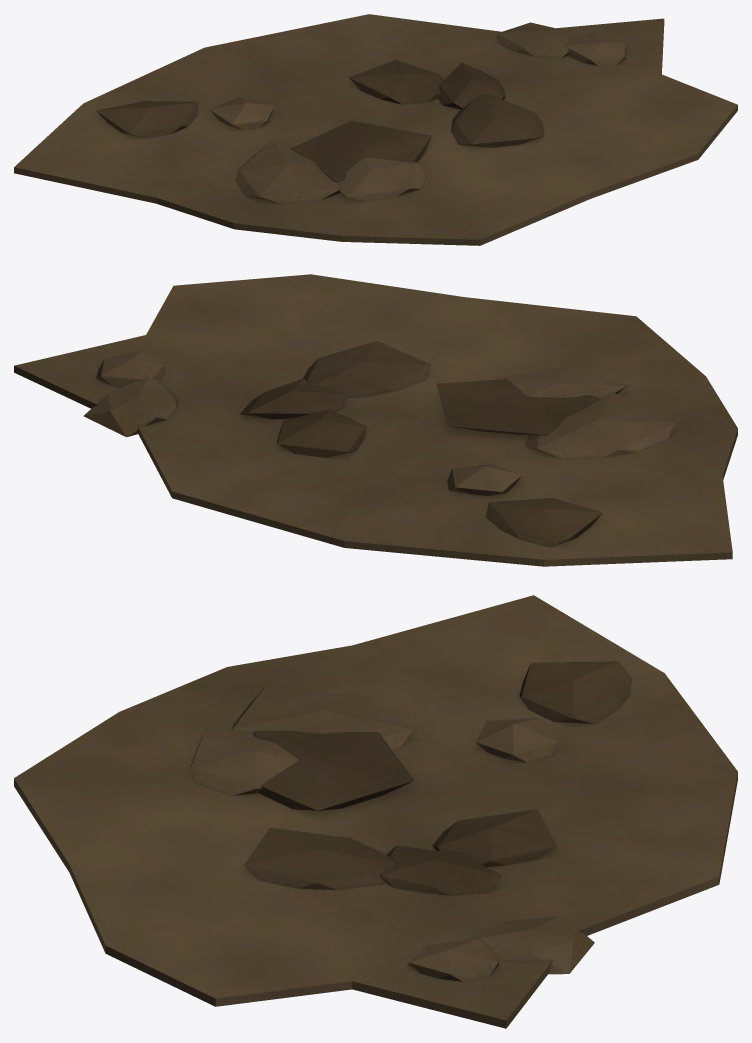
The model's file is mud_patch_idle.glb.
3 views of the same model, one above another, from view 1: azimuth 30°, elevation 25°; view 2: azimuth 150°, elevation 25°; view 3: azimuth 270°, elevation 25° (orthographic). The views are drawn at different scales.
Parts seen in each view (by area): view 1: mud_patch; view 2: mud_patch; view 3: mud_patch.
Part boxes in pixels (bbox=[...]): mud_patch: bbox=[14, 14, 737, 245]; mud_patch: bbox=[14, 274, 737, 566]; mud_patch: bbox=[14, 595, 737, 1028].
Size of the model in its own units: 1.33 by 0.0601 by 0.9576.
1 material, 1 textured.
